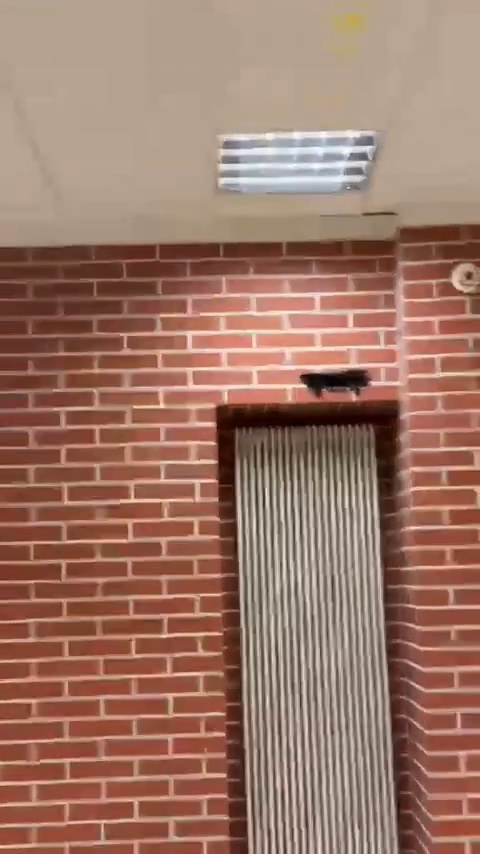drone: (295, 370, 372, 391)
